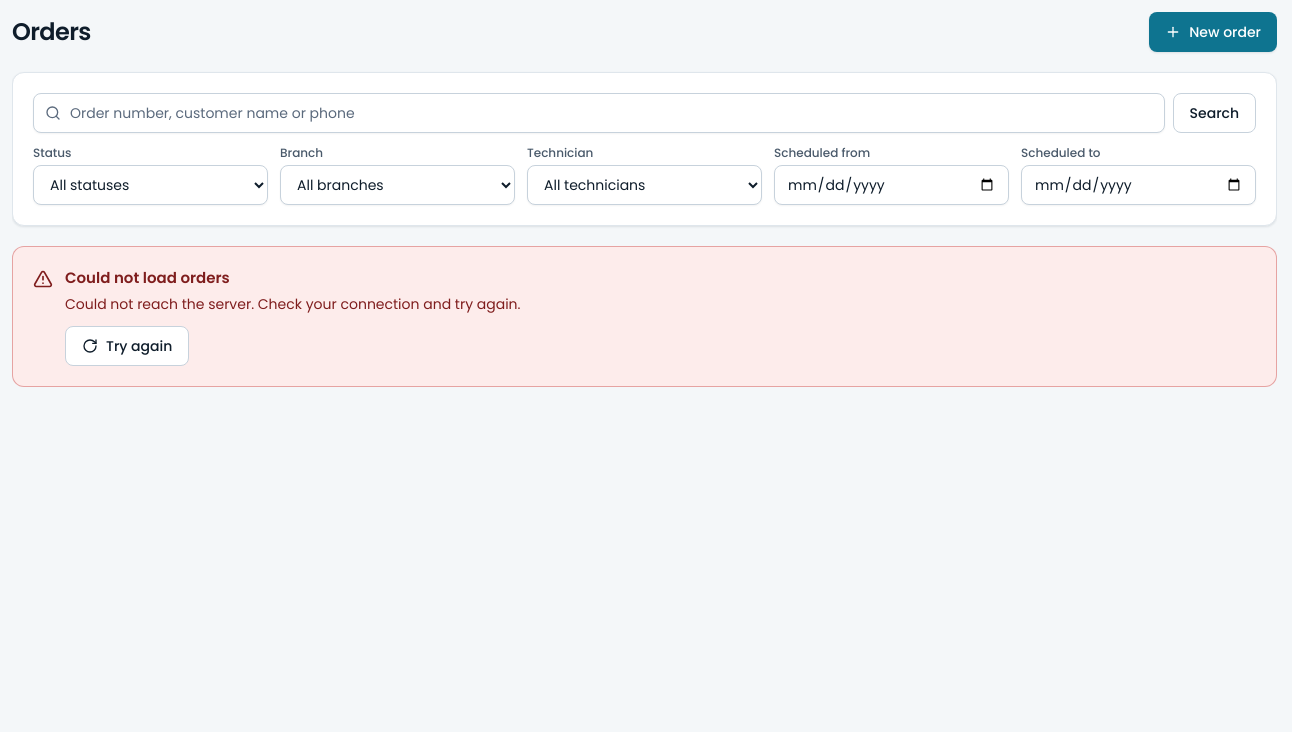
Test case: Order list (AC8) › shows a load error with a retry
Expected: the text "Could not reach the server. Check your connection and try again." is shown, [65, 294, 520, 314]
Click the button "Try again".
click(127, 346)  # box [65, 326, 189, 366]
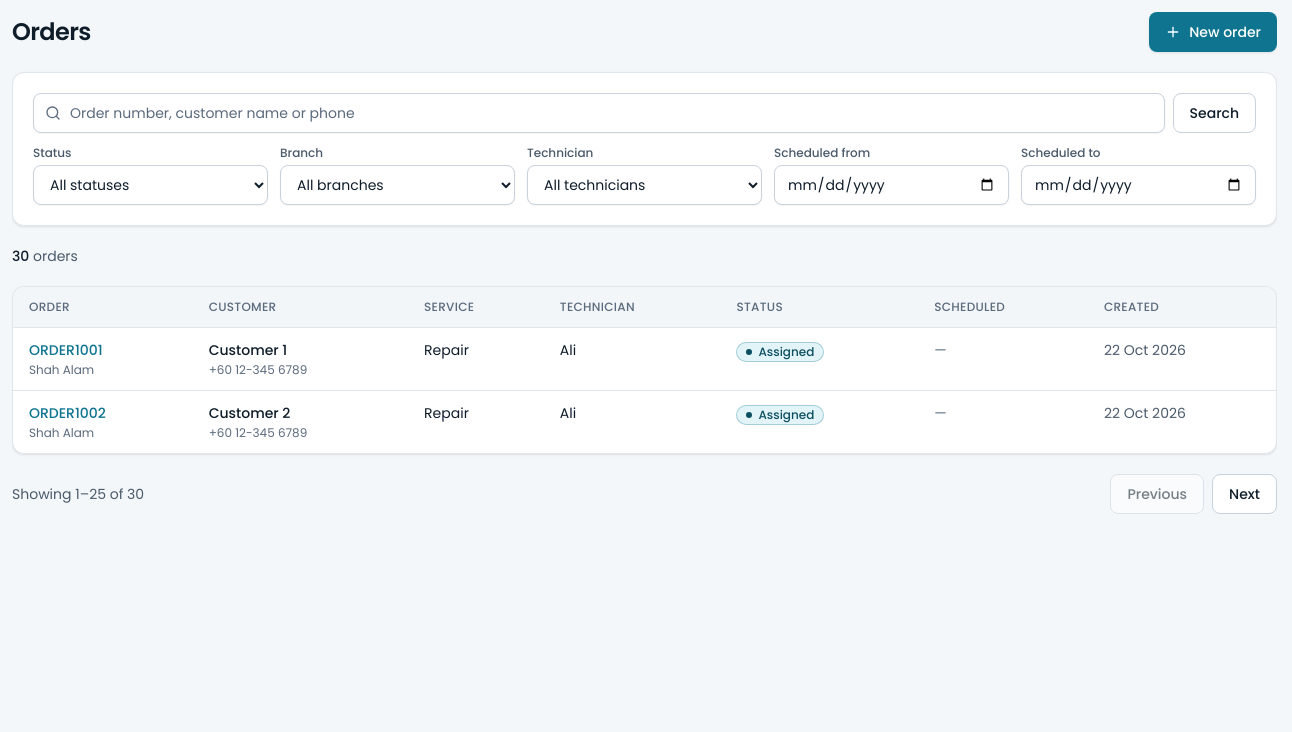
Result: the table is shown at [13, 287, 1276, 453]
